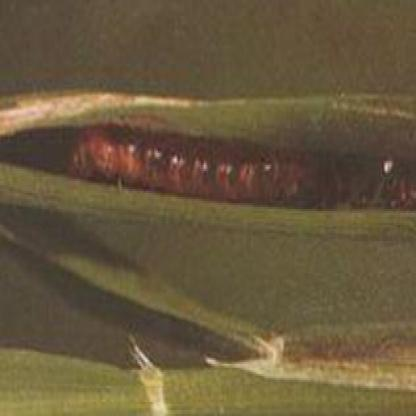leaf-folder: (78, 90, 300, 235)
